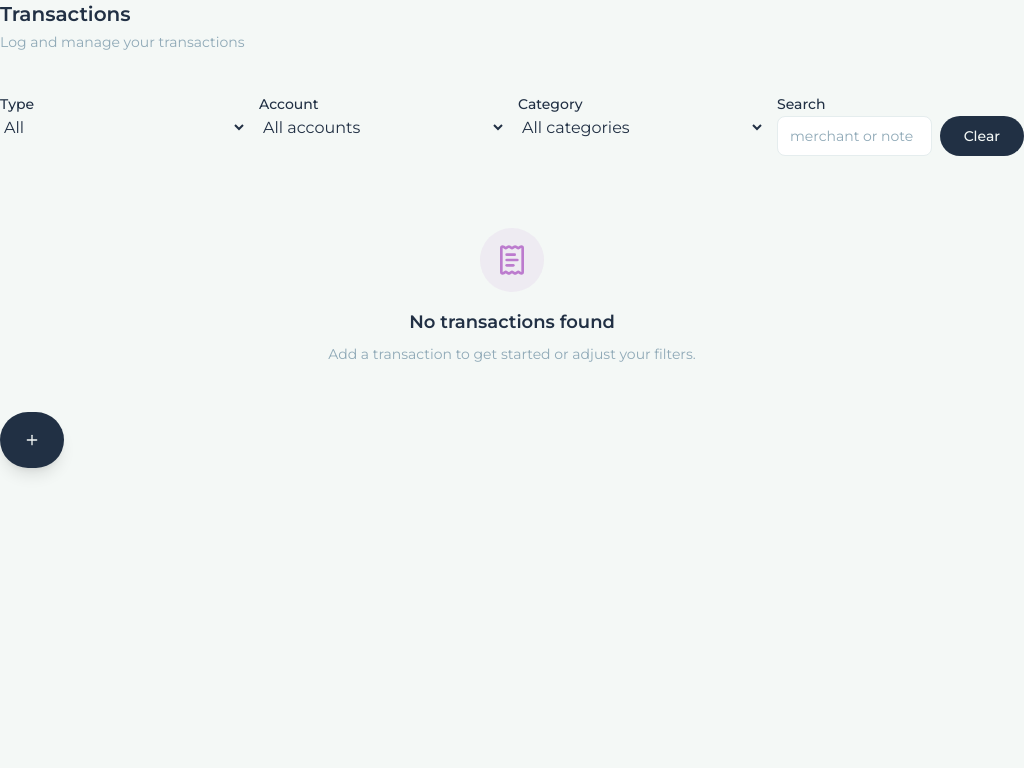
it: TransactionsPage › opens a new transaction with the selected historical month date
The width and height of the screenshot is (1024, 768).
Step 1. Click the button named "add transaction" → (32,440), box x1=0 y1=412 x2=64 y2=468
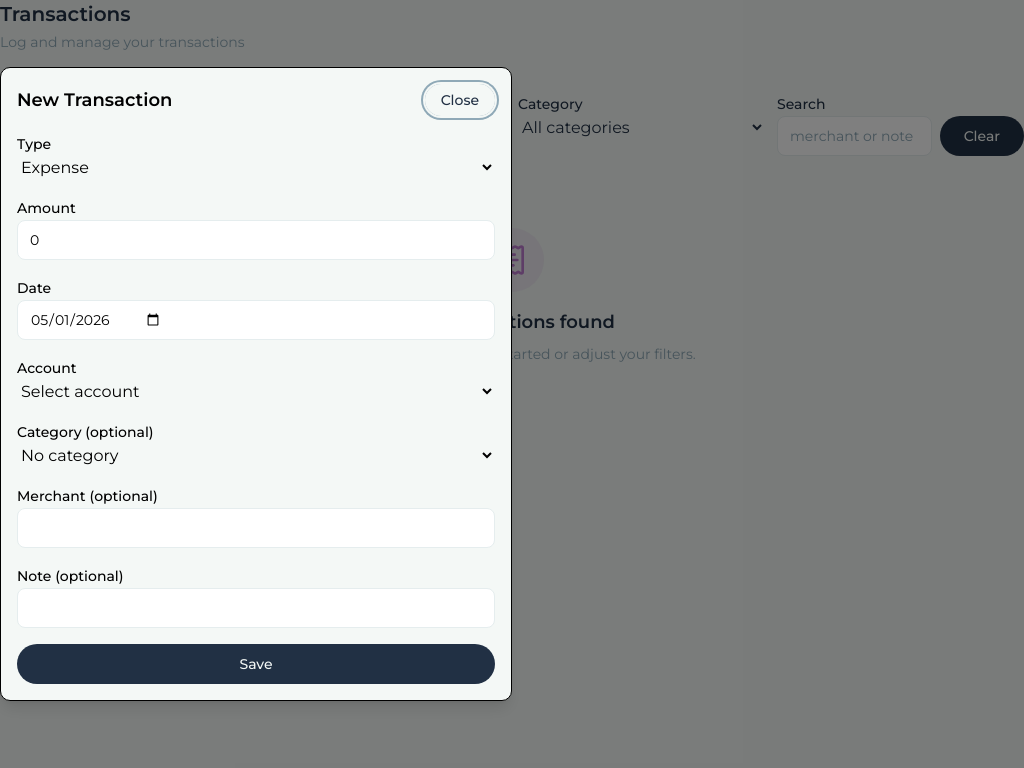
Expected: the date field labelled "Date" holds "2026-05-01", x1=17 y1=300 x2=495 y2=340
